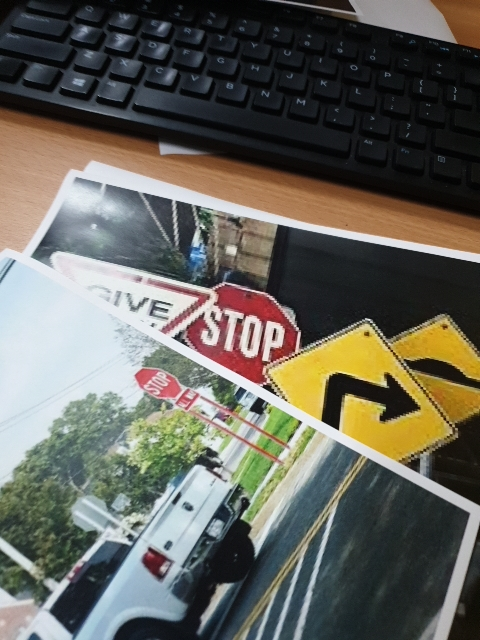giveway: (43, 233, 209, 373)
right: (285, 309, 459, 464)
stop: (191, 259, 303, 395), (119, 353, 216, 427)
